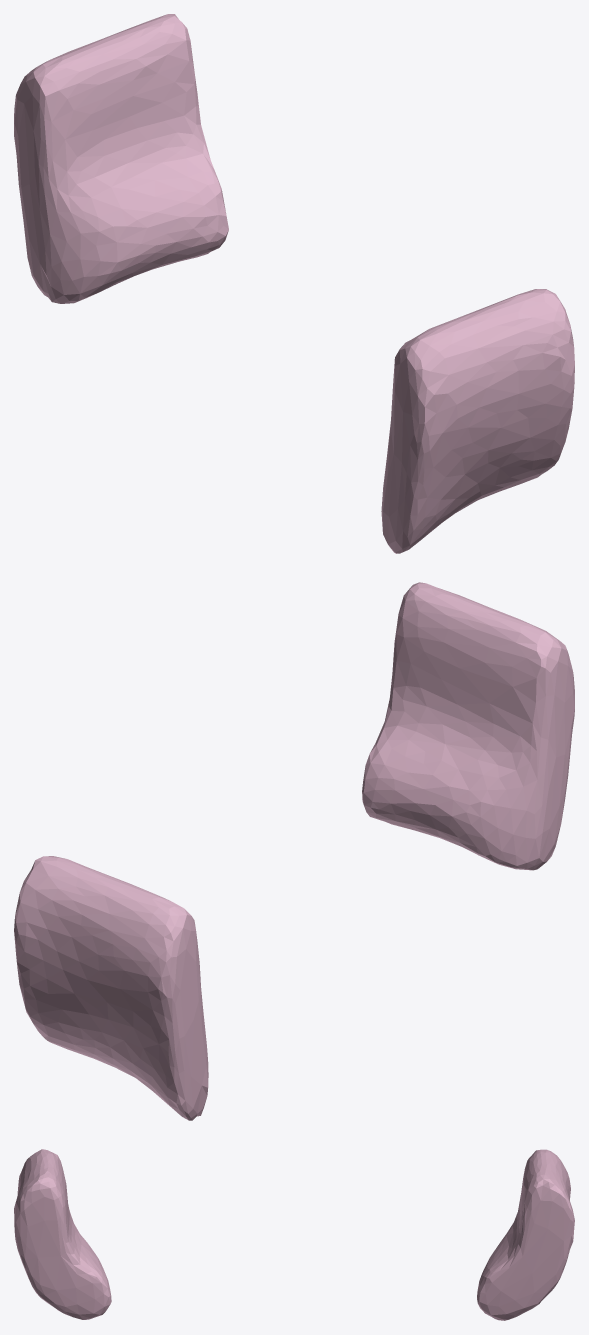
3 renders of one model, top to bottom at view 1: azimuth 30°, elevation 25°; view 2: azimuth 150°, elevation 25°; view 3: azimuth 270°, elevation 25°, orthographic. The views are drawn at different scales.
Parts seen in each view (by area): view 1: 445.obj; view 2: 445.obj; view 3: 445.obj.
Boxes of the visible parts, x1,y1,x2,y2 form: 445.obj: (14, 14, 574, 553); 445.obj: (14, 582, 574, 1120); 445.obj: (14, 1149, 574, 1320).
Bounding box in the file's own units: 985 × 1425 × 4487.
